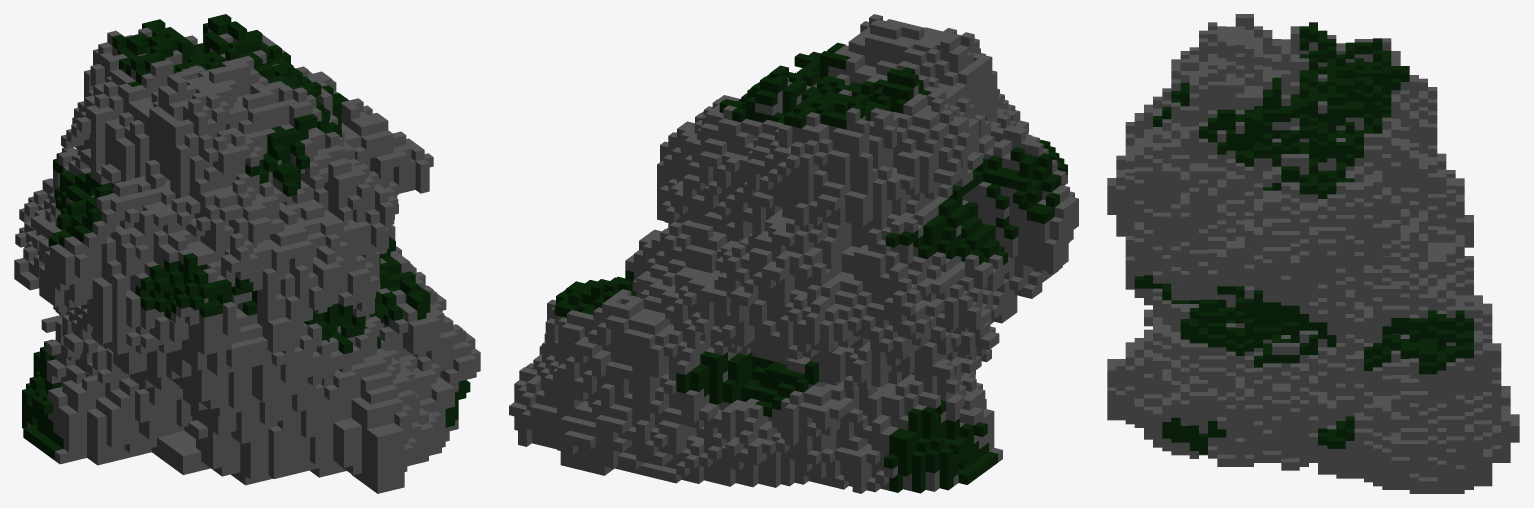
Rendered from rock.fbx.
3 views of the same model, side by side, from view 1: azimuth 30°, elevation 25°; view 2: azimuth 150°, elevation 25°; view 3: azimuth 270°, elevation 25° (orthographic). The views are drawn at different scales.
Visible parts, largest first — view 1: rock; view 2: rock; view 3: rock.
Boxes of the visible parts, left/top/right/bottom form: rock: left=14, top=14, right=480, bottom=493; rock: left=509, top=14, right=1078, bottom=493; rock: left=1107, top=14, right=1519, bottom=493.
Bounding box in the file's own units: 50 × 41 × 45.
Materials: 1 (1 with a texture image).
